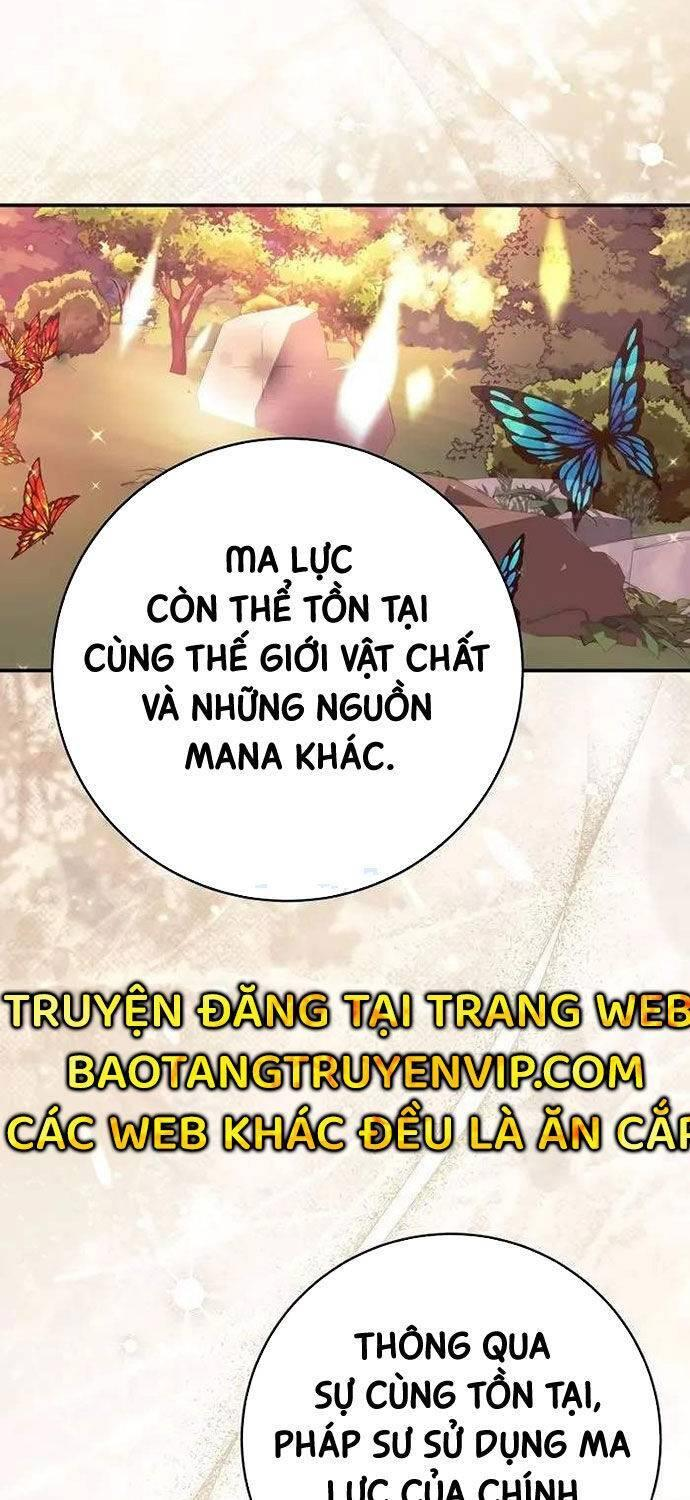quangcao: (0, 976, 690, 1172)
